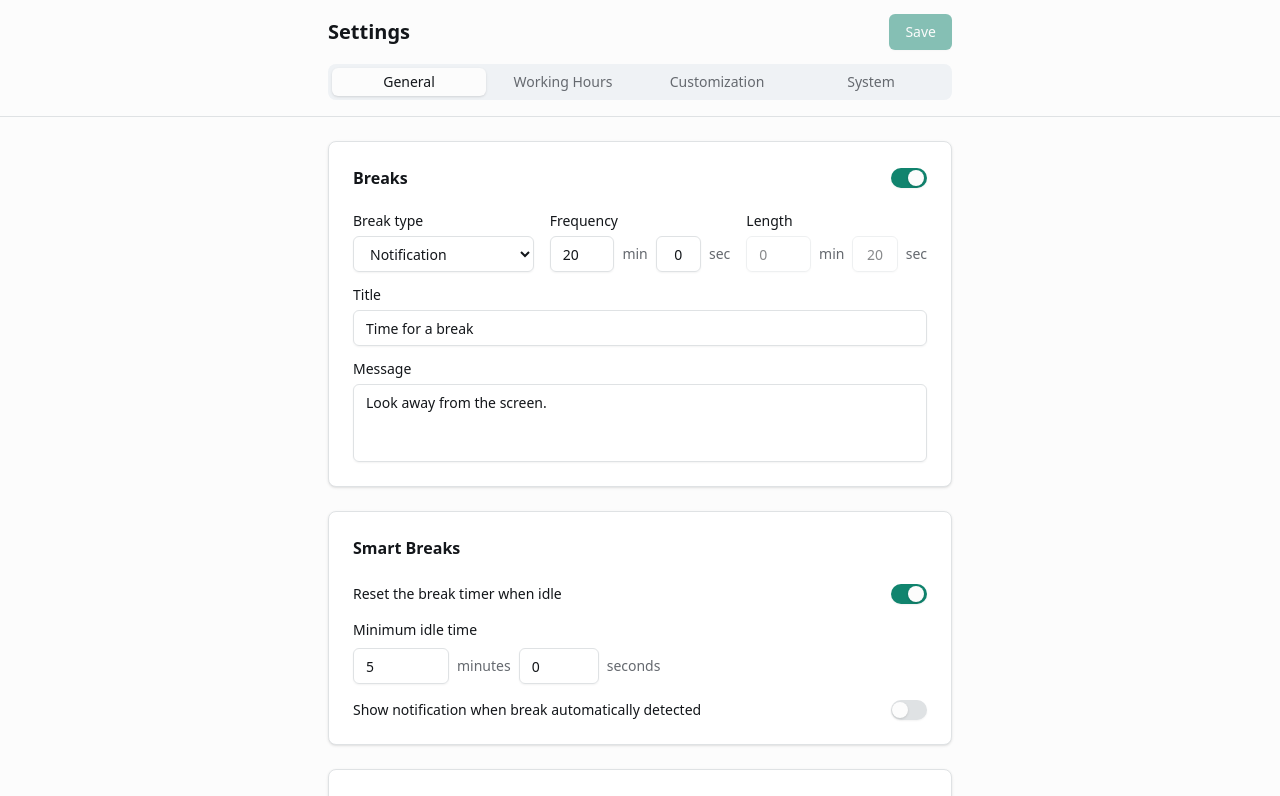
Test: SettingsWindow › disables Backdrop controls outside Popup mode
Click the tab "Customization": (717, 82) [640, 68, 794, 96]
(page scrolled)
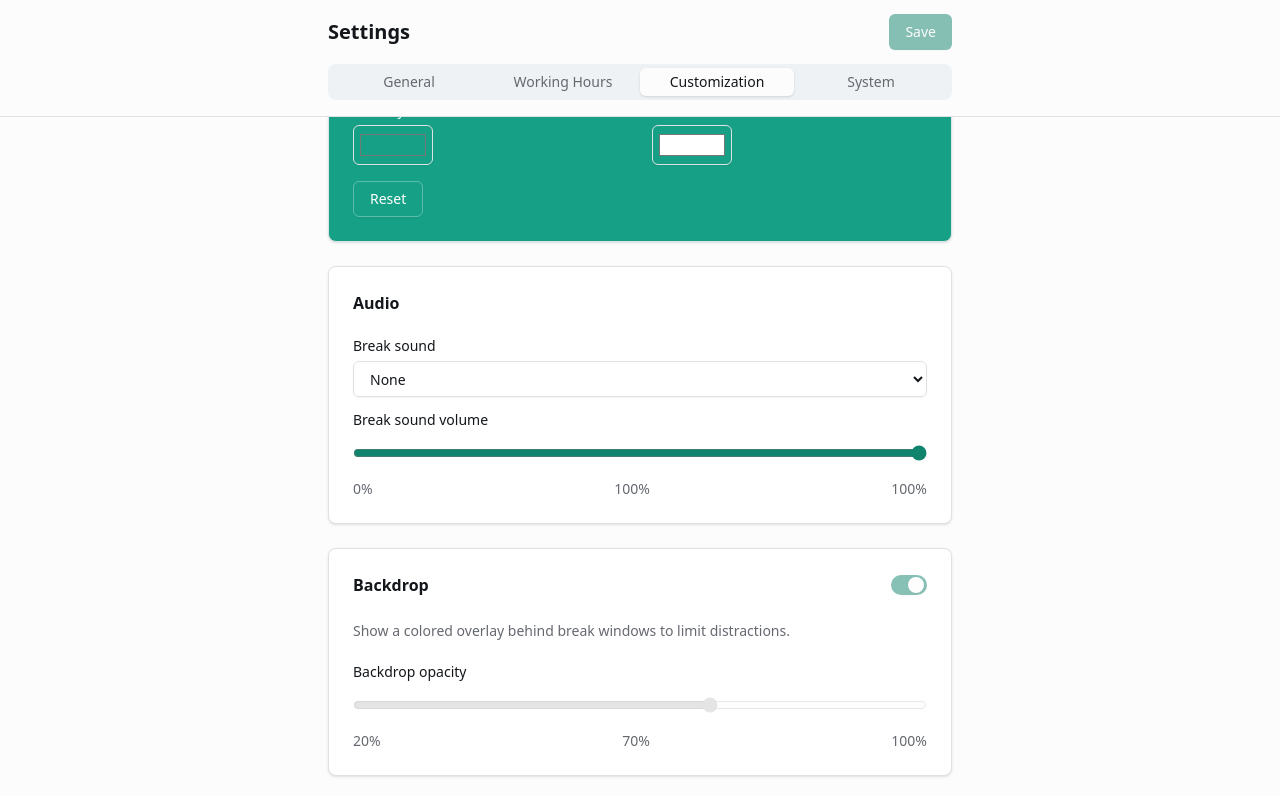
Now the switch named "Show backdrop" is disabled, box [891, 575, 927, 595]
Now the slider labelled "Backdrop opacity" is disabled, box [353, 687, 927, 723]
